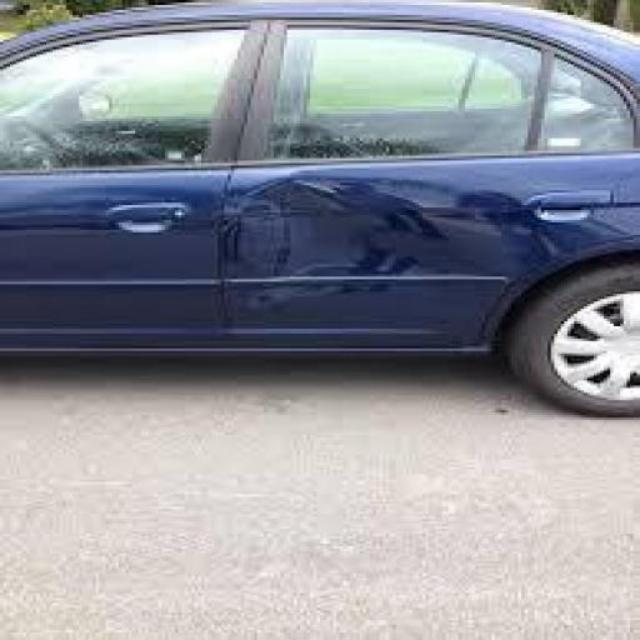dent: (213, 172, 441, 314)
